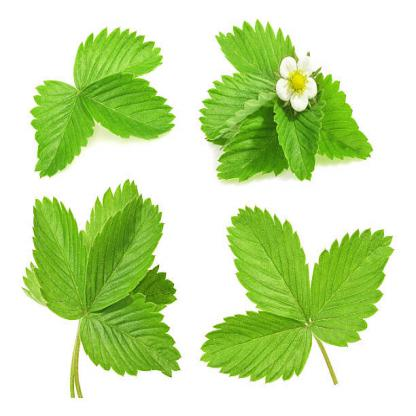Strawberry leaf: (85, 187, 165, 320), (229, 203, 314, 321), (313, 223, 394, 345), (74, 295, 186, 379), (199, 308, 312, 391), (29, 195, 93, 317), (302, 67, 377, 161), (30, 79, 97, 184), (81, 71, 178, 143), (72, 22, 163, 97), (212, 23, 303, 88), (269, 92, 328, 189), (195, 74, 284, 134)
